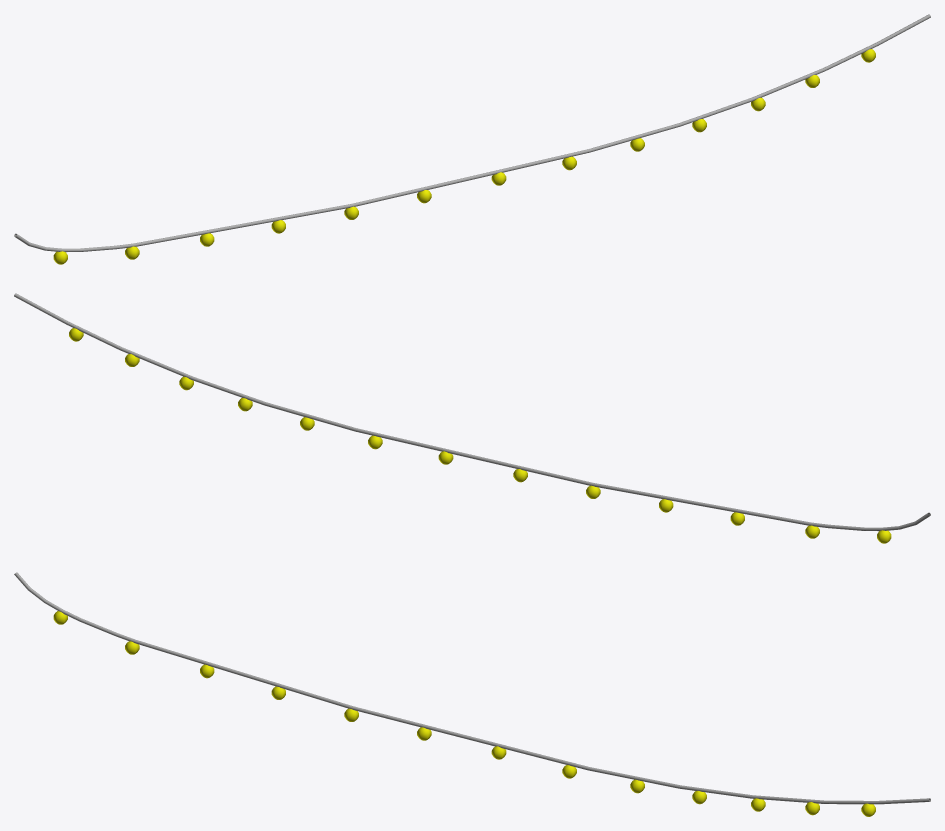
Rendered from SM_Guirland.fbx.
3 renders of one model, top to bottom at view 1: azimuth 30°, elevation 25°; view 2: azimuth 150°, elevation 25°; view 3: azimuth 330°, elevation 25°, orthographic.
Parts seen in each view (by area): view 1: polySurface121; view 2: polySurface121; view 3: polySurface121.
Part boxes in pixels (x1,y1,x2,y2): polySurface121: [14, 14, 930, 264]; polySurface121: [14, 293, 930, 543]; polySurface121: [14, 572, 930, 816].
Size of the model in its own units: 1005 by 74.36 by 13.8.
